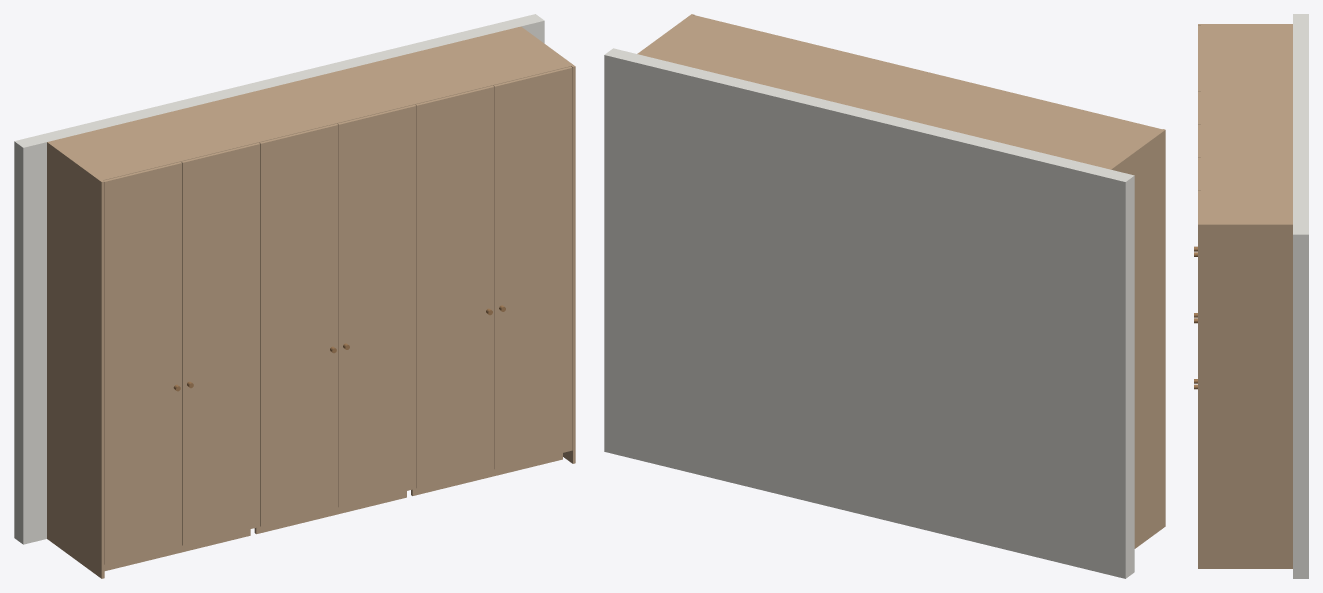
The model's file is a-xzik2h.glb.
The picture shows the model from 3 angles, left to right: view 1: azimuth 30°, elevation 25°; view 2: azimuth 150°, elevation 25°; view 3: azimuth 270°, elevation 25°; orthographic projection. The views are drawn at different scales.
Visible parts, largest first — view 1: Unit 1: Door, right, Unit 2: Door, left, Unit 3: Door, right, Unit 2: Door, right, Unit 1: Door, left, Unit 3: Door, left, End panel, left, Room: Back wall, Unit 1: Top, Unit 2: Top, Unit 3: Top, End panel, right (+3 smaller); view 2: Room: Back wall, End panel, left, Unit 2: Top, Unit 1: Top, Unit 3: Top; view 3: End panel, right, Room: Back wall, Unit 2: Top, Unit 3: Top, Unit 1: Top, End panel, left, Unit 1: Side, left, Unit 1: Side, right, Unit 2: Side, left, Unit 2: Side, right, Unit 3: Side, left, Unit 3: Side, right.
Boxes of the visible parts, x1=… form: Unit 1: Door, right: x1=181, y1=142, x2=260, y2=545; Unit 2: Door, left: x1=259, y1=123, x2=338, y2=526; Unit 3: Door, right: x1=493, y1=66, x2=572, y2=469; Unit 2: Door, right: x1=337, y1=104, x2=416, y2=507; Unit 1: Door, left: x1=104, y1=162, x2=182, y2=564; Unit 3: Door, left: x1=415, y1=85, x2=494, y2=488; End panel, left: x1=47, y1=141, x2=104, y2=578; Room: Back wall: x1=14, y1=14, x2=544, y2=544; Unit 1: Top: x1=53, y1=104, x2=255, y2=179; Unit 2: Top: x1=209, y1=66, x2=411, y2=141; Unit 3: Top: x1=365, y1=28, x2=567, y2=103; End panel, right: x1=518, y1=26, x2=575, y2=463; Room: Back wall: x1=604, y1=48, x2=1134, y2=578; End panel, left: x1=1108, y1=129, x2=1165, y2=548; Unit 2: Top: x1=799, y1=54, x2=1001, y2=129; Unit 1: Top: x1=955, y1=93, x2=1157, y2=168; Unit 3: Top: x1=643, y1=16, x2=845, y2=91; End panel, right: x1=1198, y1=223, x2=1292, y2=568; Room: Back wall: x1=1293, y1=14, x2=1308, y2=578; Unit 2: Top: x1=1201, y1=92, x2=1292, y2=156; Unit 3: Top: x1=1201, y1=158, x2=1292, y2=222; Unit 1: Top: x1=1201, y1=26, x2=1292, y2=89; End panel, left: x1=1198, y1=24, x2=1292, y2=25; Unit 1: Side, left: x1=1201, y1=25, x2=1292, y2=26; Unit 1: Side, right: x1=1201, y1=90, x2=1292, y2=91; Unit 2: Side, left: x1=1201, y1=91, x2=1292, y2=92; Unit 2: Side, right: x1=1201, y1=156, x2=1292, y2=157; Unit 3: Side, left: x1=1201, y1=157, x2=1292, y2=158; Unit 3: Side, right: x1=1201, y1=222, x2=1292, y2=223.
Size of the model in its own units: 3.3 by 2.4 by 0.725.
